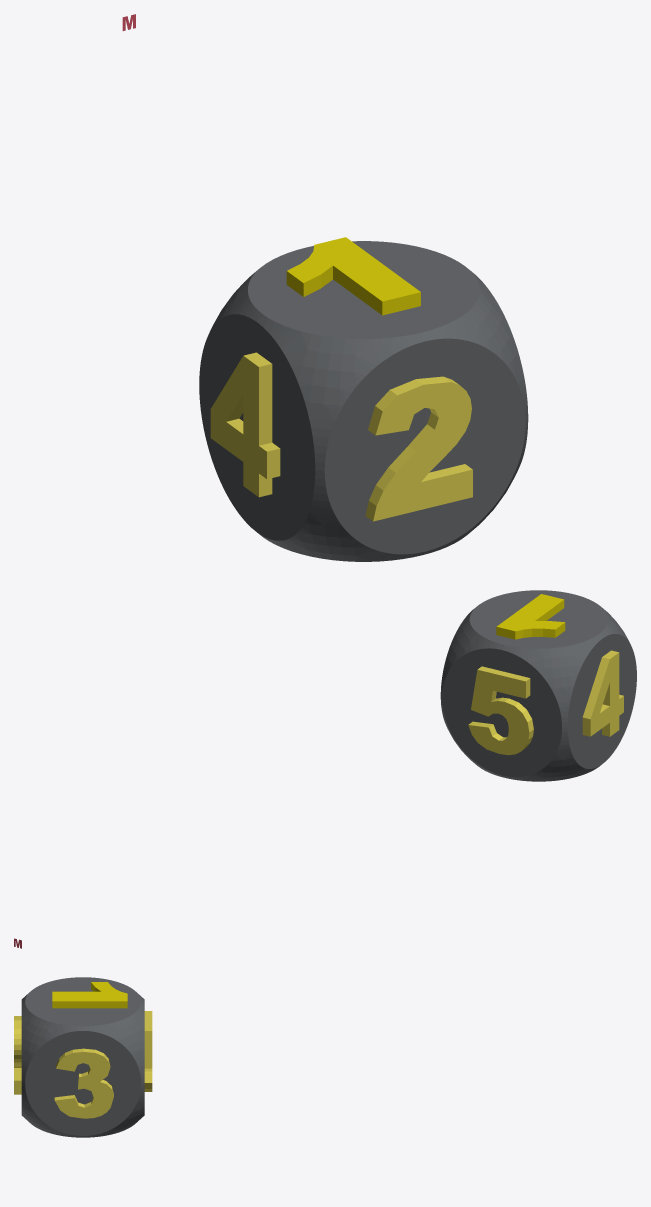
File: fool_würfel.glb
3 views of the same model, one above another, from view 1: azimuth 30°, elevation 25°; view 2: azimuth 150°, elevation 25°; view 3: azimuth 270°, elevation 25° (orthographic). The views are drawn at different scales.
Visible parts, largest first — view 1: Mesh_Mesh_head_geo.001_lambert2SG.001; view 2: Mesh_Mesh_head_geo.001_lambert2SG.001; view 3: Mesh_Mesh_head_geo.001_lambert2SG.001.
Boxes of the visible parts, left/top/right/bottom form: Mesh_Mesh_head_geo.001_lambert2SG.001: left=122, top=14, right=528, bottom=561; Mesh_Mesh_head_geo.001_lambert2SG.001: left=14, top=590, right=636, bottom=948; Mesh_Mesh_head_geo.001_lambert2SG.001: left=14, top=977, right=152, bottom=1137.
Size of the model in its own units: 0.0335 by 0.018 by 0.0811.
